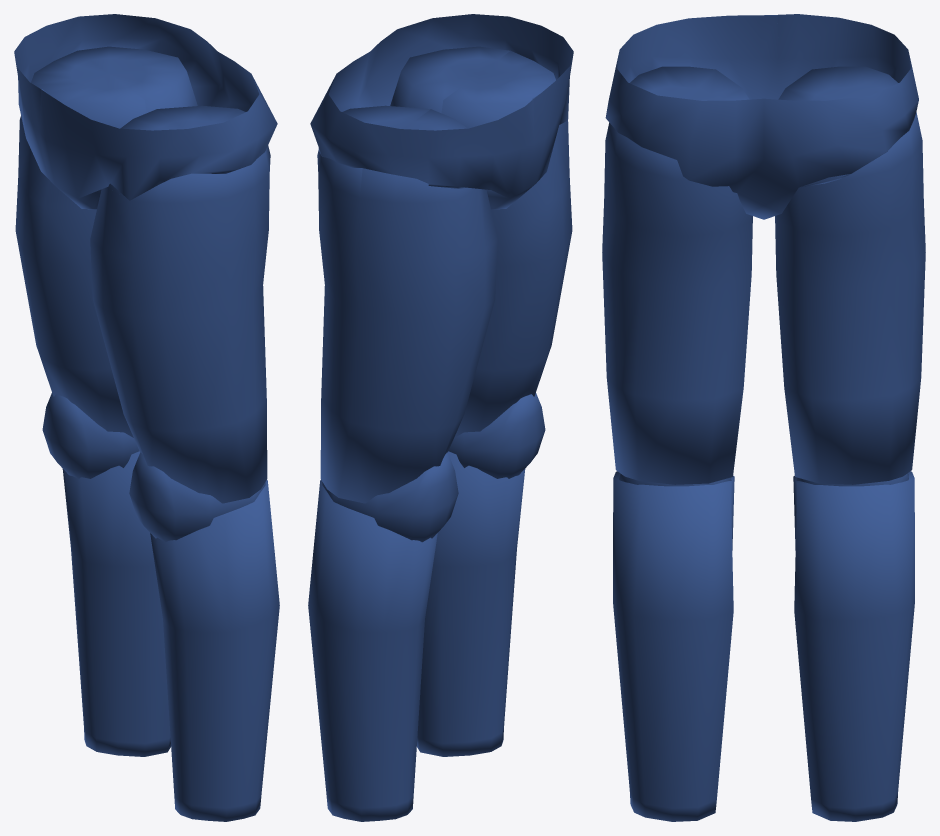
File: sht1.fbx
3 renders of one model, left to right at view 1: azimuth 30°, elevation 25°; view 2: azimuth 150°, elevation 25°; view 3: azimuth 270°, elevation 25°, orthographic. The views are drawn at different scales.
Parts seen in each view (by area): view 1: Object_9.002; view 2: Object_9.002; view 3: Object_9.002.
Boxes of the visible parts, x1,y1,x2,y2 form: Object_9.002: (14,14,279,821); Object_9.002: (308,14,573,821); Object_9.002: (602,14,925,821).
Size of the model in its own units: 55 by 195 by 78.59.
